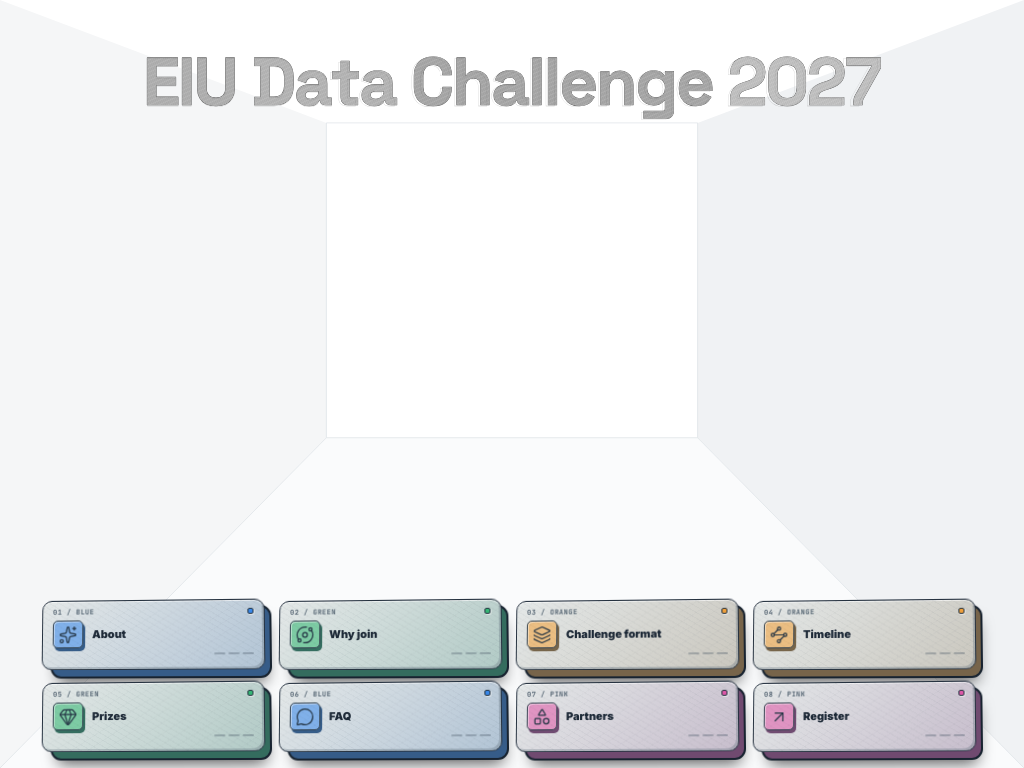
Test case: AI command experience › opens about and closes with Escape, returning focus
Step 1. Click the button "01 / Blue About" → (154, 635), box [42, 599, 265, 670]
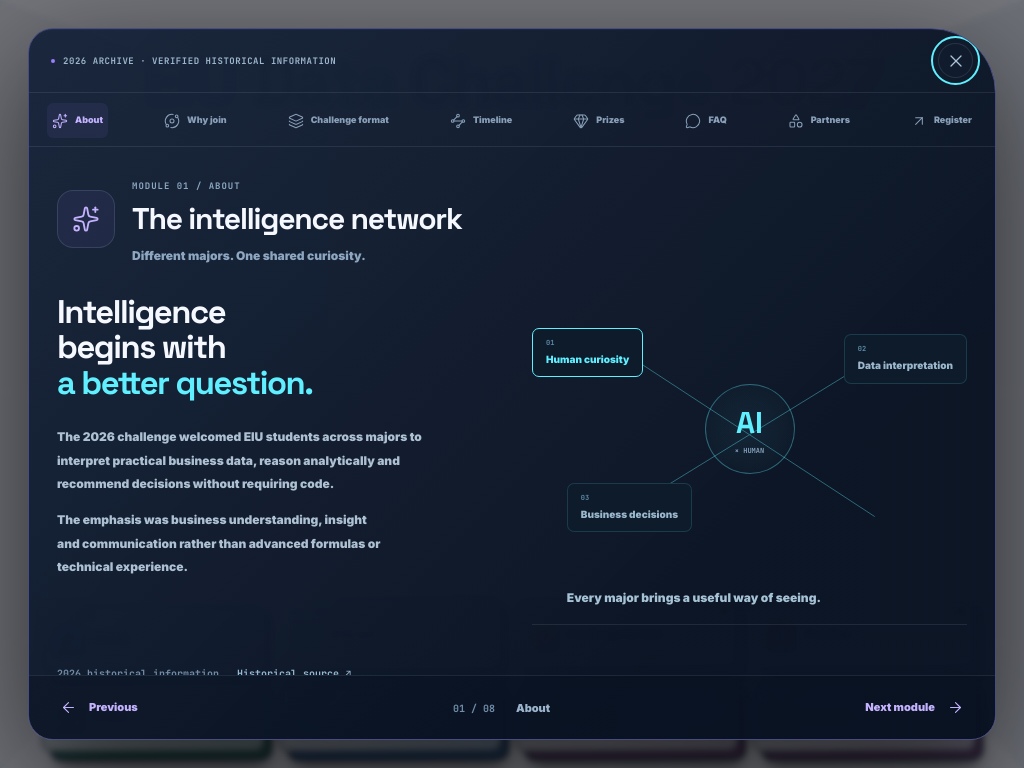
Expected: the heading "The intelligence network" is shown, [132, 202, 462, 236]
Expected: the number of dialogs is 1
Step 2. Press Escape
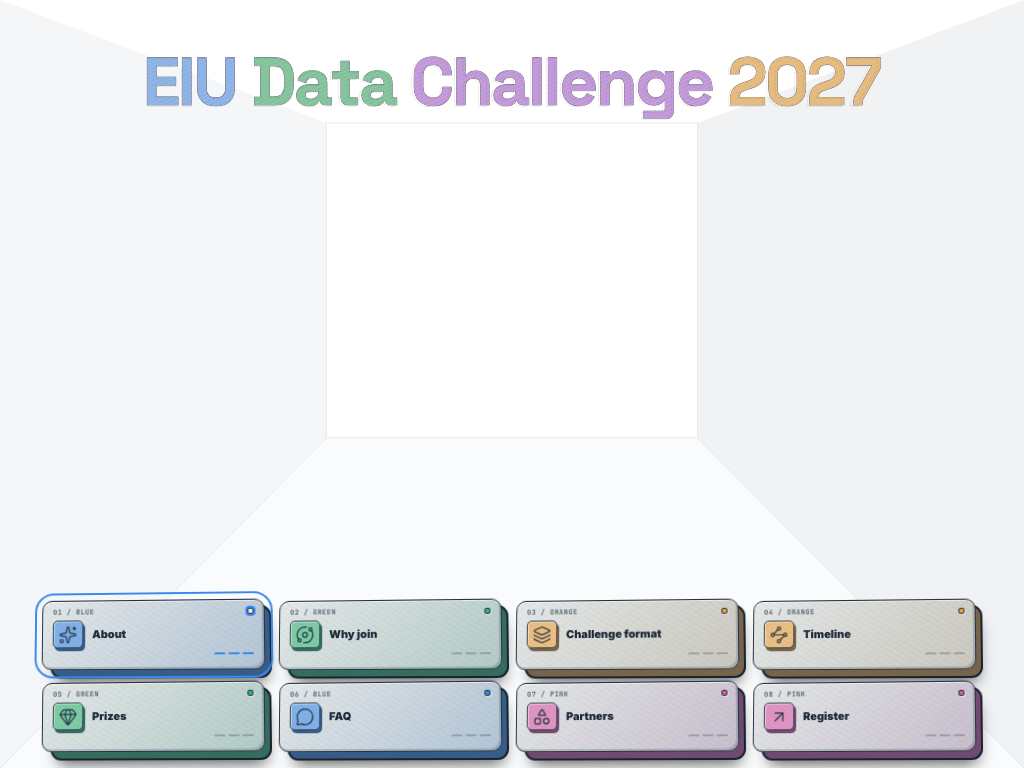
Expected: the dialog is gone
